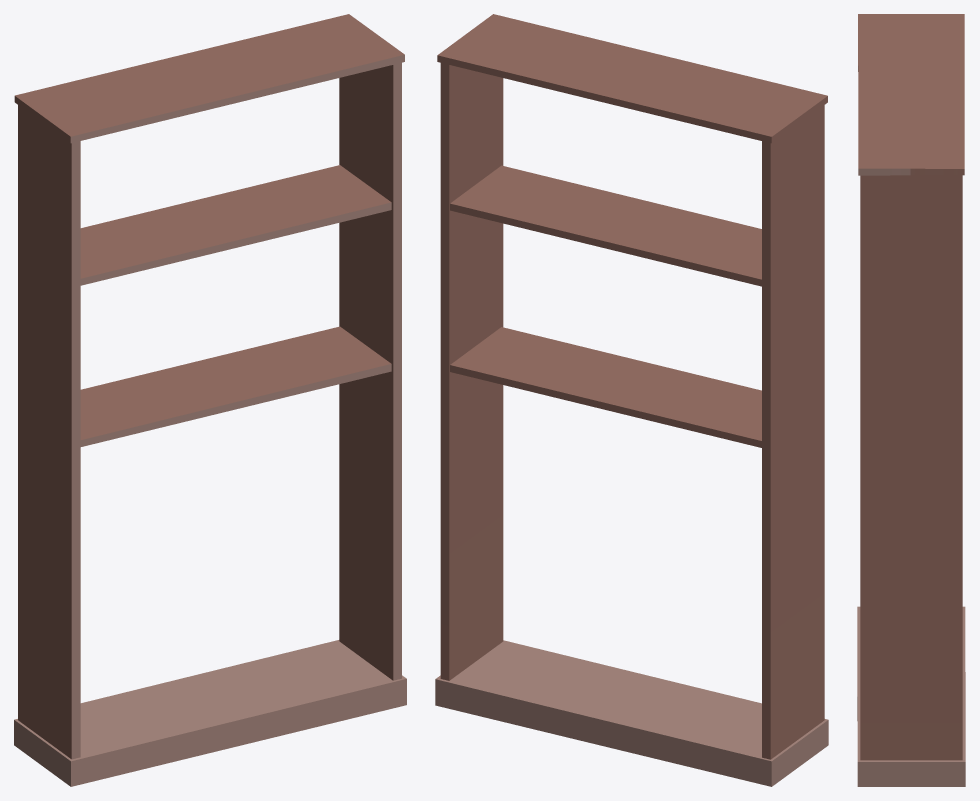
Rendered from closet_033.glb.
3 renders of one model, left to right at view 1: azimuth 30°, elevation 25°; view 2: azimuth 150°, elevation 25°; view 3: azimuth 270°, elevation 25°, orthographic. The views are drawn at different scales.
Visible parts, largest first — view 1: closet_033; view 2: closet_033; view 3: closet_033.
Part boxes in pixels (<box>): closet_033: <box>14,14,406,786</box>; closet_033: <box>435,14,828,786</box>; closet_033: <box>857,14,965,786</box>.
Size of the model in its own units: 1.73 by 3.2 by 0.5104.
1 material, 1 textured.
